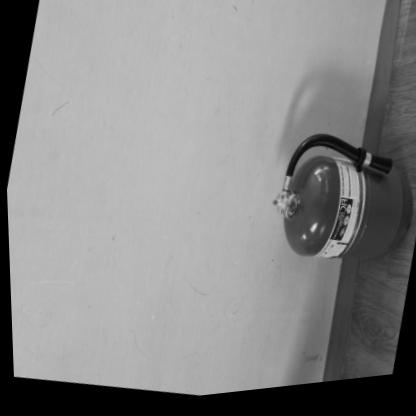FE: (263, 124, 416, 287)
